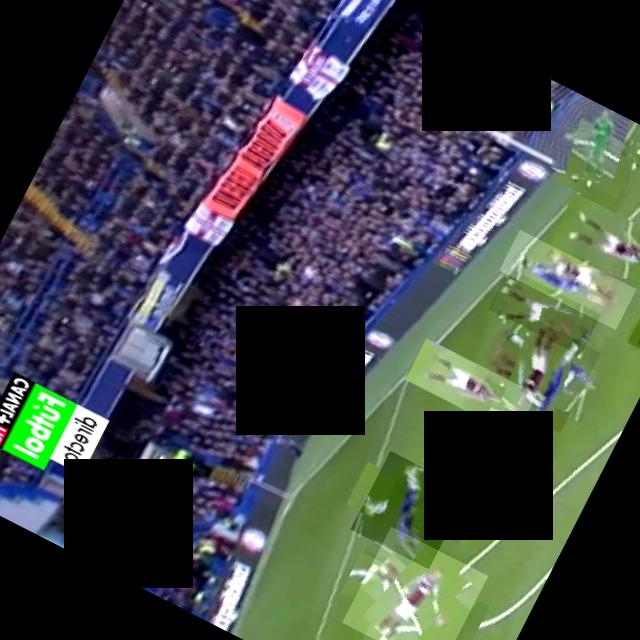goalkeeper: (542, 92, 640, 198)
soccer-player: (342, 525, 488, 640), (479, 310, 601, 432), (351, 451, 469, 568), (499, 229, 637, 329), (406, 338, 538, 436), (488, 267, 602, 355), (549, 190, 640, 299), (627, 307, 640, 358)
